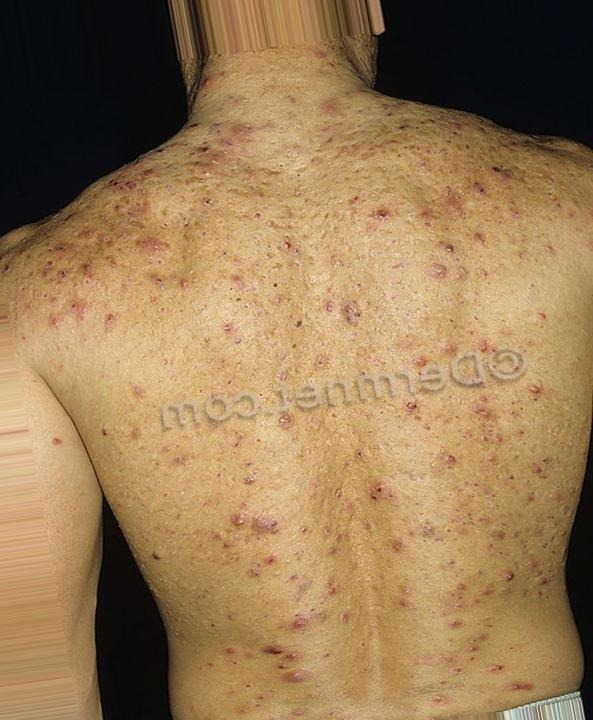Acne: (34, 78, 566, 698)
